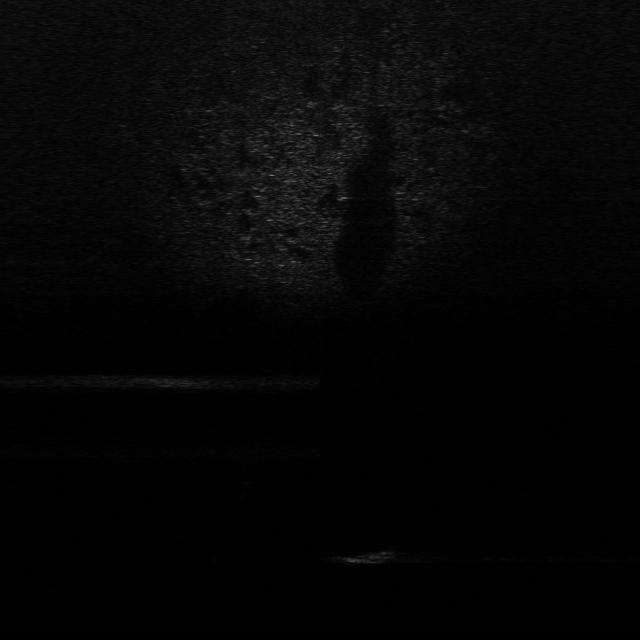metal bucket: (330, 534, 406, 567)
